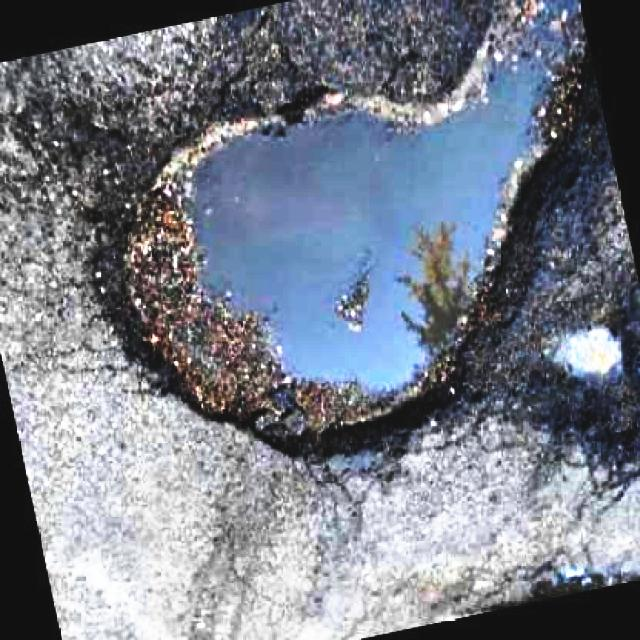pothole: (104, 12, 598, 451)
